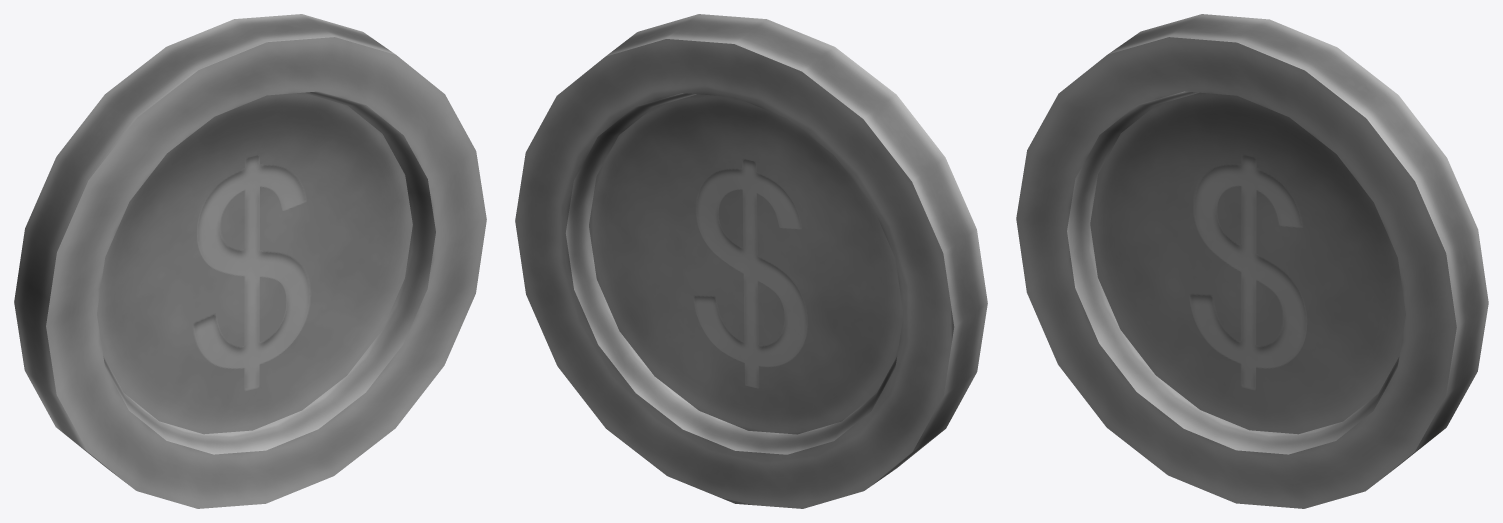
File: CoinSilver_LOD0.fbx
3 views of the same model, side by side, from view 1: azimuth 30°, elevation 25°; view 2: azimuth 150°, elevation 25°; view 3: azimuth 330°, elevation 25° (orthographic).
Visible parts, largest first — view 1: Default_Layer; view 2: Default_Layer; view 3: Default_Layer.
Part boxes in pixels (x1,y1,x2,y2): Default_Layer: (14,14,486,508); Default_Layer: (515,14,987,508); Default_Layer: (1016,14,1488,508).
Size of the model in its own units: 41.79 by 41.79 by 5.38.
